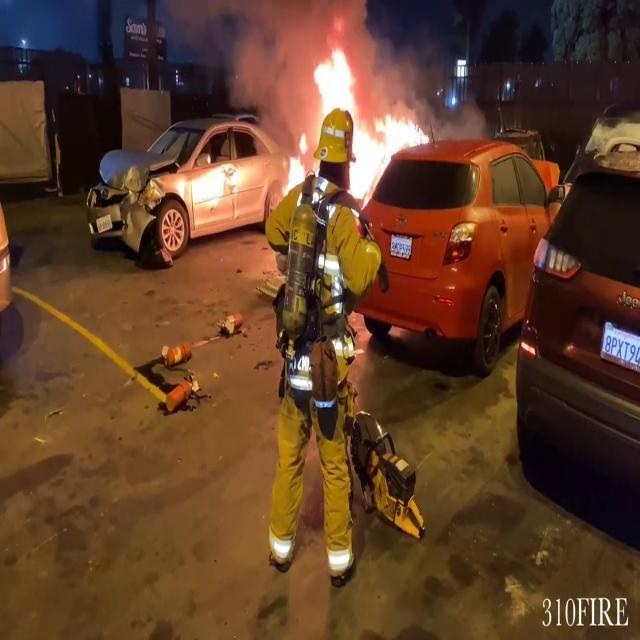Fire: (301, 42, 431, 200), (282, 134, 308, 202)
